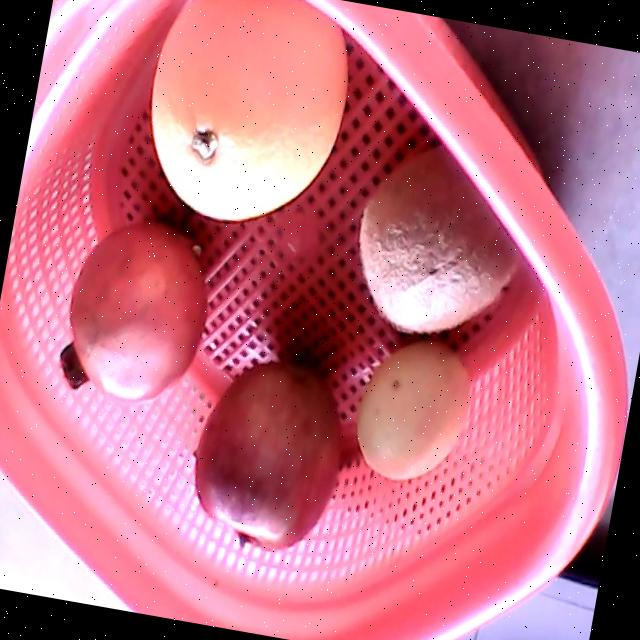apple: (192, 361, 339, 550)
kiwi: (359, 144, 521, 331)
lemon: (355, 341, 470, 478)
orange: (150, 0, 347, 219)
pomegranate: (58, 220, 207, 400)
